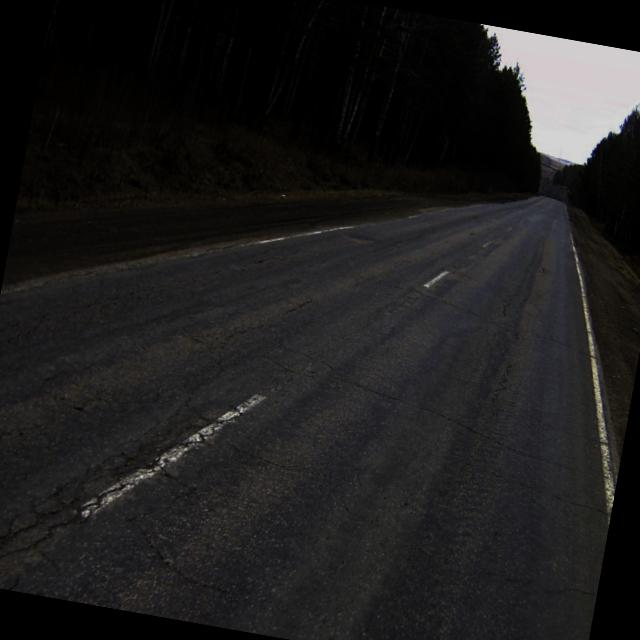road: (0, 195, 614, 640)
